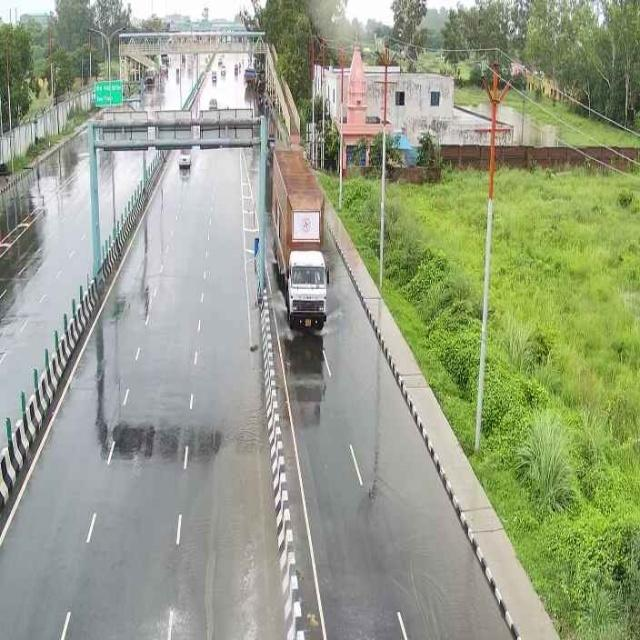car: (174, 146, 197, 176)
